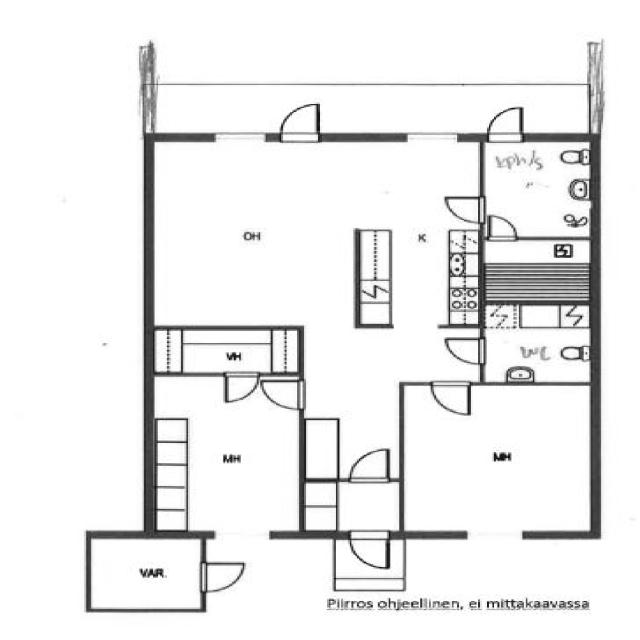door: (150, 326, 292, 377), (277, 99, 325, 148), (192, 557, 252, 596), (344, 526, 393, 573), (435, 329, 492, 369), (257, 374, 309, 414), (483, 102, 529, 145), (427, 378, 473, 420), (219, 368, 263, 410), (439, 193, 488, 227), (482, 212, 522, 242)
window: (204, 126, 276, 148), (395, 127, 467, 147), (458, 526, 531, 542)
zone: (152, 140, 351, 329), (400, 382, 595, 538), (355, 153, 483, 347), (149, 374, 302, 534), (480, 136, 595, 239), (481, 301, 594, 385), (86, 536, 204, 613), (477, 237, 596, 306), (147, 325, 300, 375), (346, 445, 394, 487)
